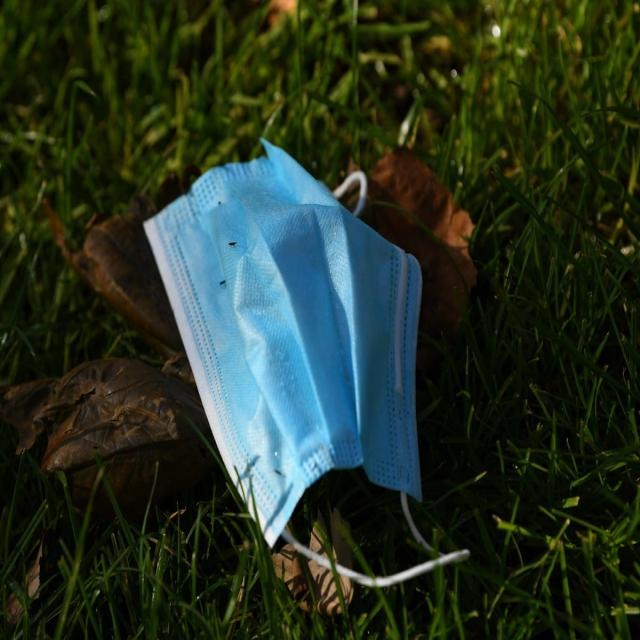face mask: (142, 135, 468, 587)
